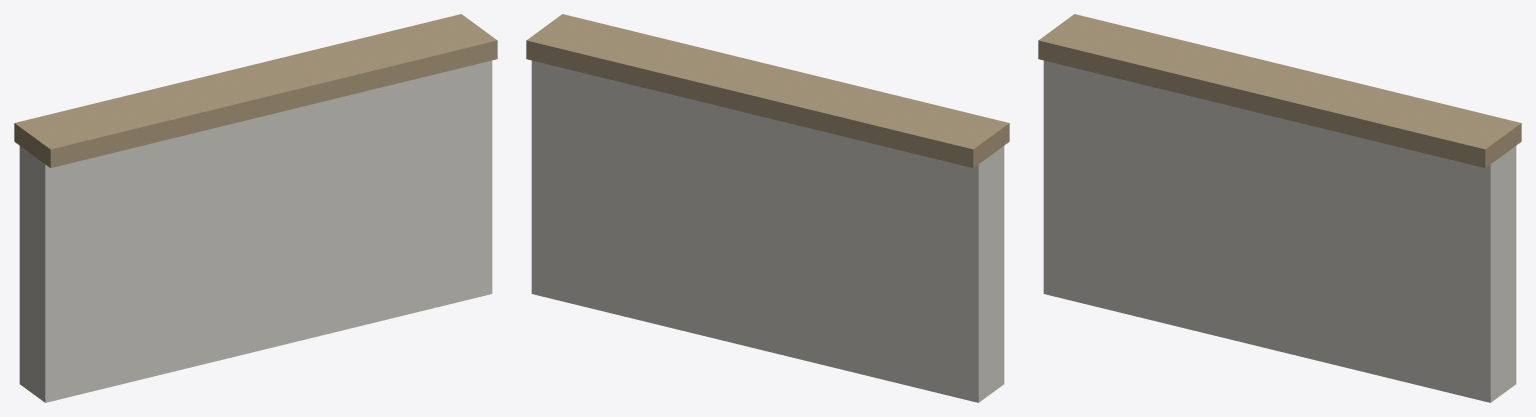
Rendered from OA_Parapet_2m.fbx.
3 renders of one model, left to right at view 1: azimuth 30°, elevation 25°; view 2: azimuth 150°, elevation 25°; view 3: azimuth 330°, elevation 25°, orthographic.
Visible parts, largest first — view 1: OA_Parapet_2m; view 2: OA_Parapet_2m; view 3: OA_Parapet_2m.
Part boxes in pixels (x1,y1,x2,y2): OA_Parapet_2m: (14,14,497,402); OA_Parapet_2m: (526,14,1009,402); OA_Parapet_2m: (1038,14,1521,402).
Bounding box in the file's own units: 2 × 1.1 × 0.28.
Materials: 2 (2 with a texture image).
